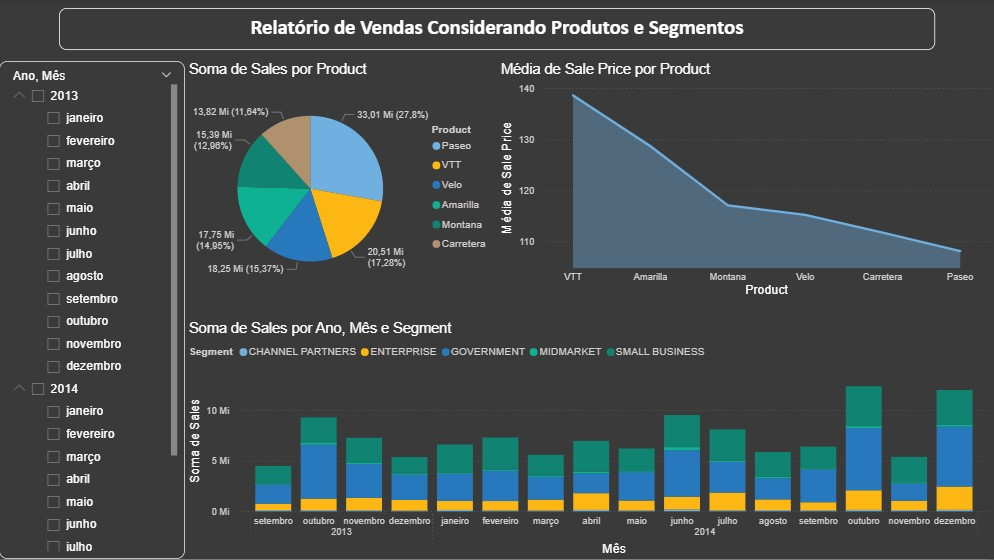

The dashboard page shown, as its layout file describes it:
{"tool":"powerbi","page":{"name":"Prod & Seg","canvas":[1280,720],"ordinal":0},"visuals":[{"type":"pieChart","fields":{"Category":["financials.Product"],"Y":["Sum(financials.Sales)"]},"box":[239,79.7,401,307.1],"z":0},{"type":"stackedAreaChart","fields":{"Category":["financials.Product"],"Y":["Avg(financials.Sale Price)"]},"box":[640,79.7,640,307.1],"z":1000},{"type":"columnChart","fields":{"Category":["financials.Date.Variation.Hierarquia de datas.Ano","financials.Date.Variation.Hierarquia de datas.Mês"],"Y":["Sum(financials.Sales)"],"Series":["financials.Segment"]},"box":[239,412.5,1041,307.1],"z":2000},{"type":"slicer","fields":{"Values":["financials.Date.Variation.Hierarquia de datas.Ano","financials.Date.Variation.Hierarquia de datas.Mês"]},"box":[0,79.7,239,640],"z":2001},{"type":"textbox","box":[77.1,11.6,1125.8,54],"z":2002}]}

Visuals, with their boxes in screenshot pixels (x1, y1, x2, y2), scaled from the page's 1280x720 canvas onto the 994x560 screenshot:
pieChart - financials.Product x Sum(financials.Sales): bbox=[186, 62, 497, 301]
stackedAreaChart - financials.Product x Avg(financials.Sale Price): bbox=[497, 62, 993, 301]
columnChart - financials.Date.Variation.Hierarquia de datas.Ano x financials.Date.Variation.Hierarquia de datas.Mês: bbox=[186, 321, 993, 559]
slicer - financials.Date.Variation.Hierarquia de datas.Ano x financials.Date.Variation.Hierarquia de datas.Mês: bbox=[0, 62, 186, 559]
textbox: bbox=[60, 9, 934, 51]
